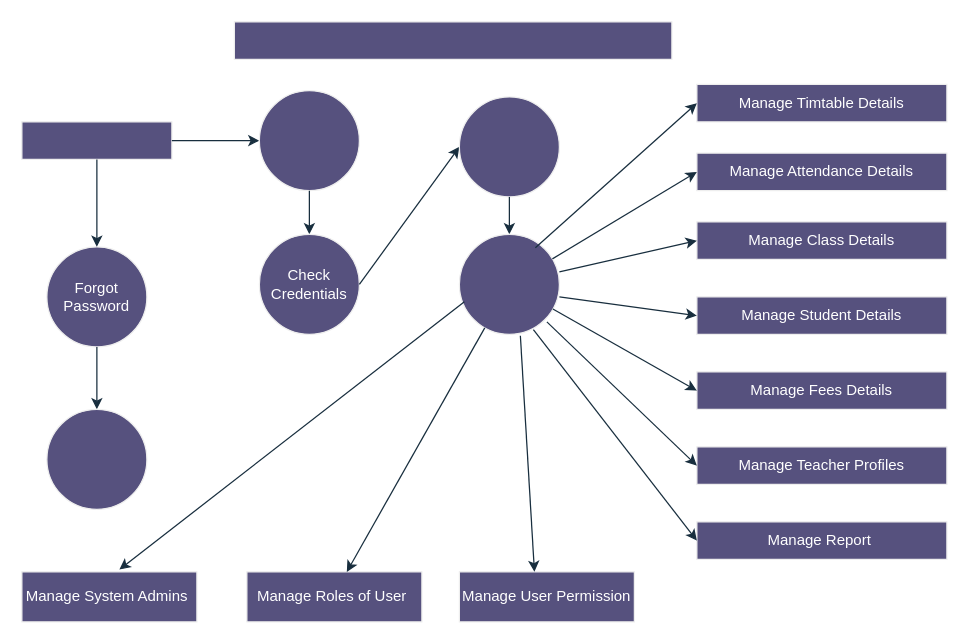
Some shapes in this 969 by 644 pixel diagram are drawn without their labels. The box of each missing label's shape, as (x1, y1, x2, y2) in pixels:
Admin: (21, 121, 172, 159)
Check Roles of Access: (458, 96, 559, 197)
Login to System: (258, 89, 359, 191)
Manage Modules: (458, 233, 559, 334)
Send email to user: (46, 408, 147, 509)
Student Information System: (233, 21, 672, 59)
